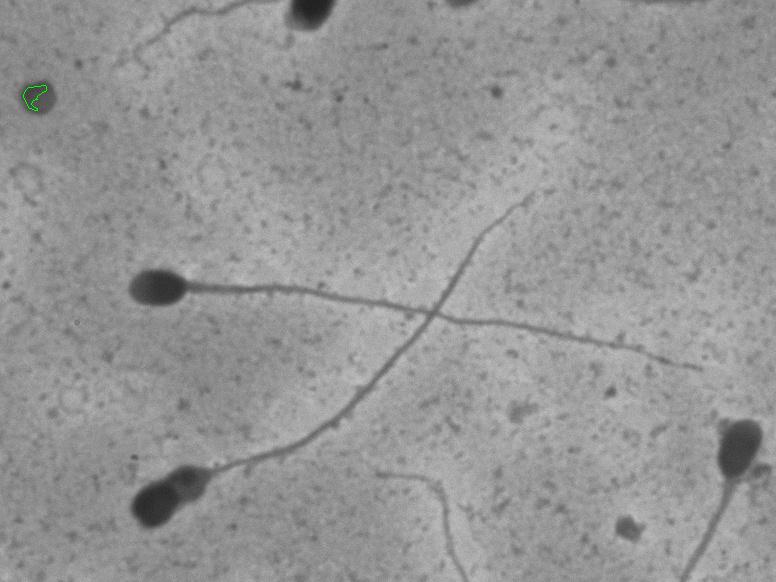Abnormal: (112, 172, 551, 550)
Normal: (62, 232, 712, 397)
